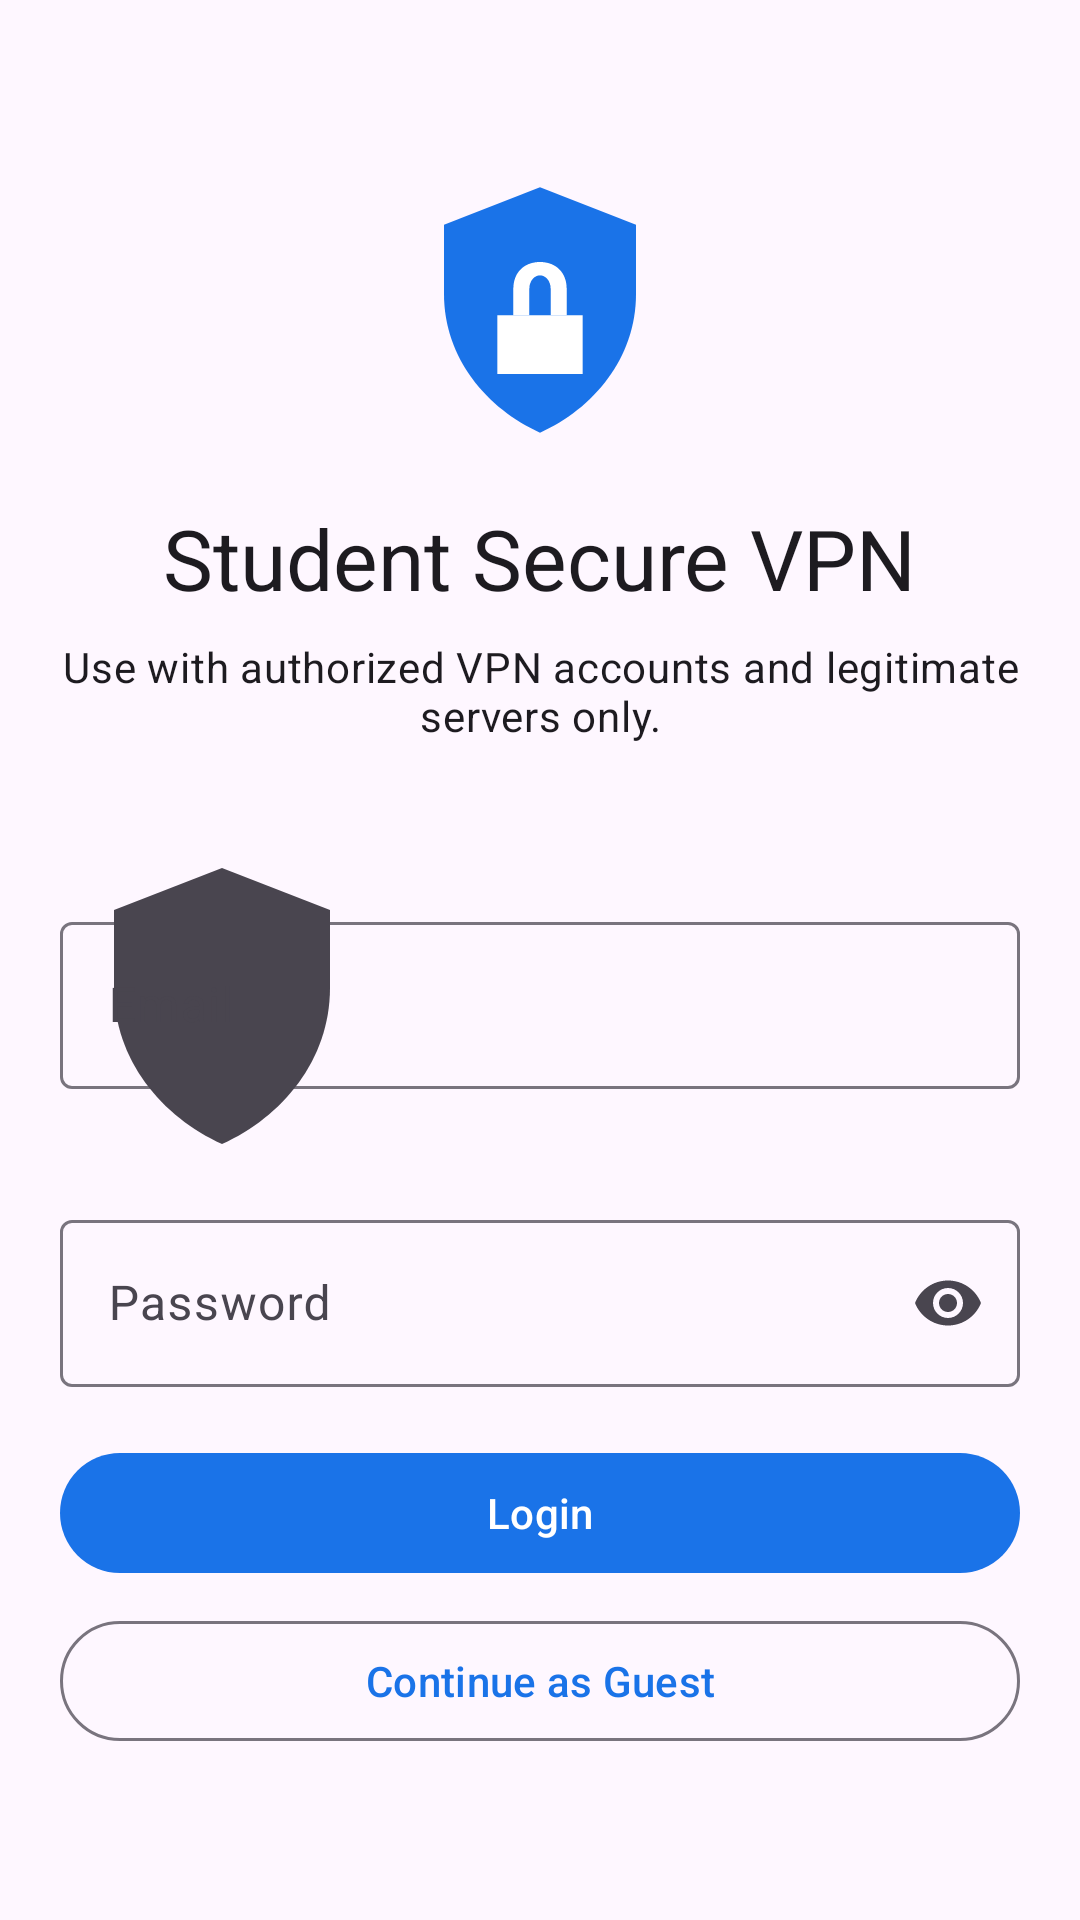

Icon bounding boxes for this 1080px x 1920px phone screenshot, format (left=x1, top=y1, right=x2, bottom=y2):
VPN shield: (left=444, top=187, right=636, bottom=433)
